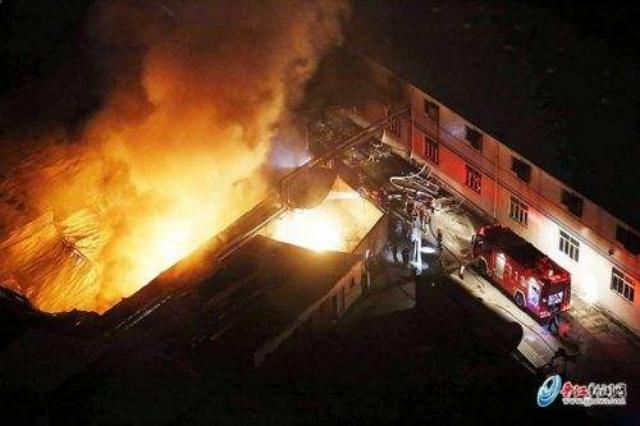fire: (120, 204, 222, 290), (274, 200, 358, 256)
